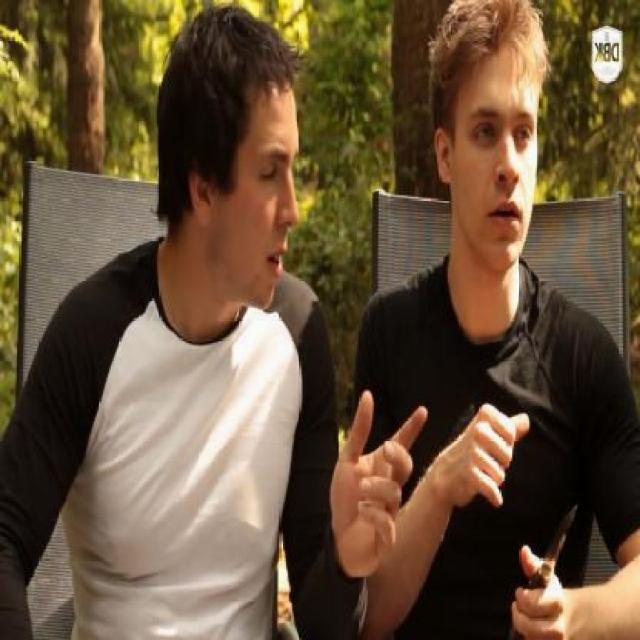knife: (508, 481, 587, 640)
